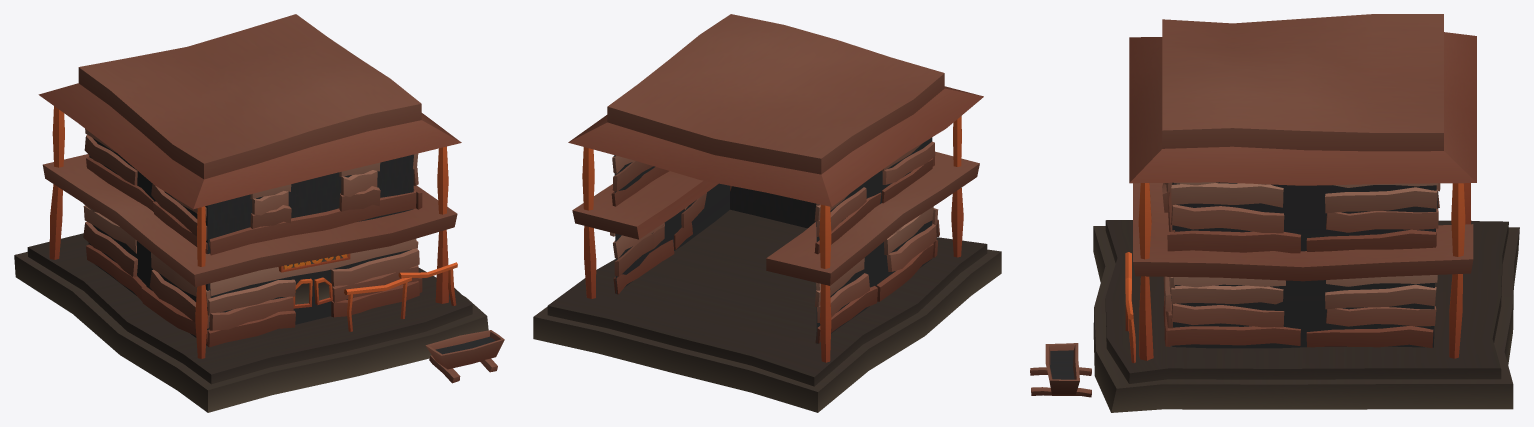
File: M_saloon.fbx
3 renders of one model, left to right at view 1: azimuth 30°, elevation 25°; view 2: azimuth 150°, elevation 25°; view 3: azimuth 270°, elevation 25°, orthographic. The views are drawn at different scales.
Visible parts, largest first — view 1: Saloon; view 2: Saloon; view 3: Saloon.
Boxes of the visible parts, x1,y1,x2,y2 form: Saloon: (14,14,504,412); Saloon: (533,14,1001,412); Saloon: (1030,14,1519,412).
Bounding box in the file's own units: 961 × 730 × 1227.
